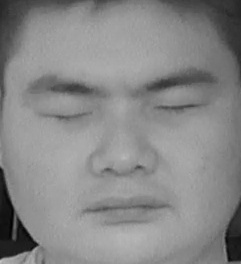blink: (43, 100, 95, 132), (157, 91, 206, 122)
mouth: (81, 184, 173, 231)
